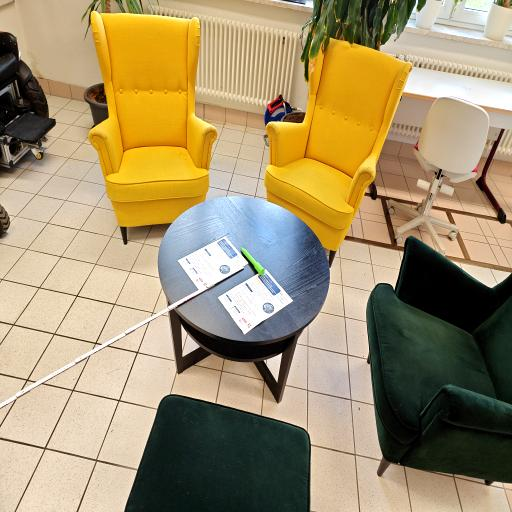Probe-Detection: (240, 247, 265, 276)
